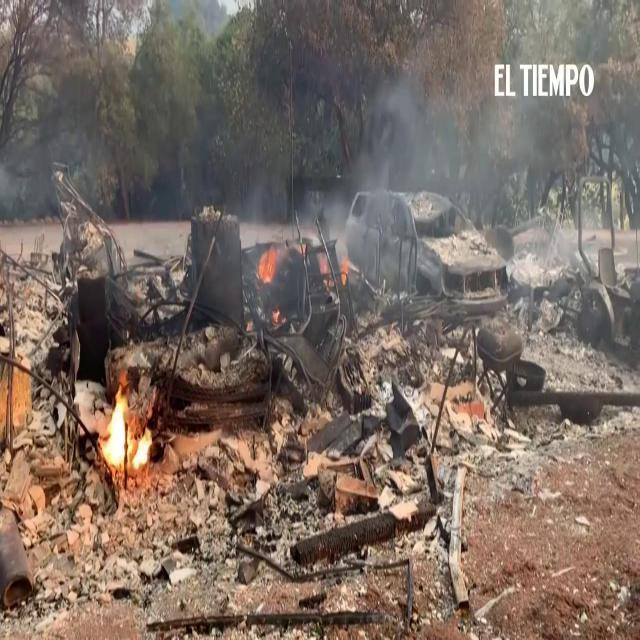Fire: (96, 378, 154, 469), (260, 238, 282, 284), (340, 253, 349, 279)
